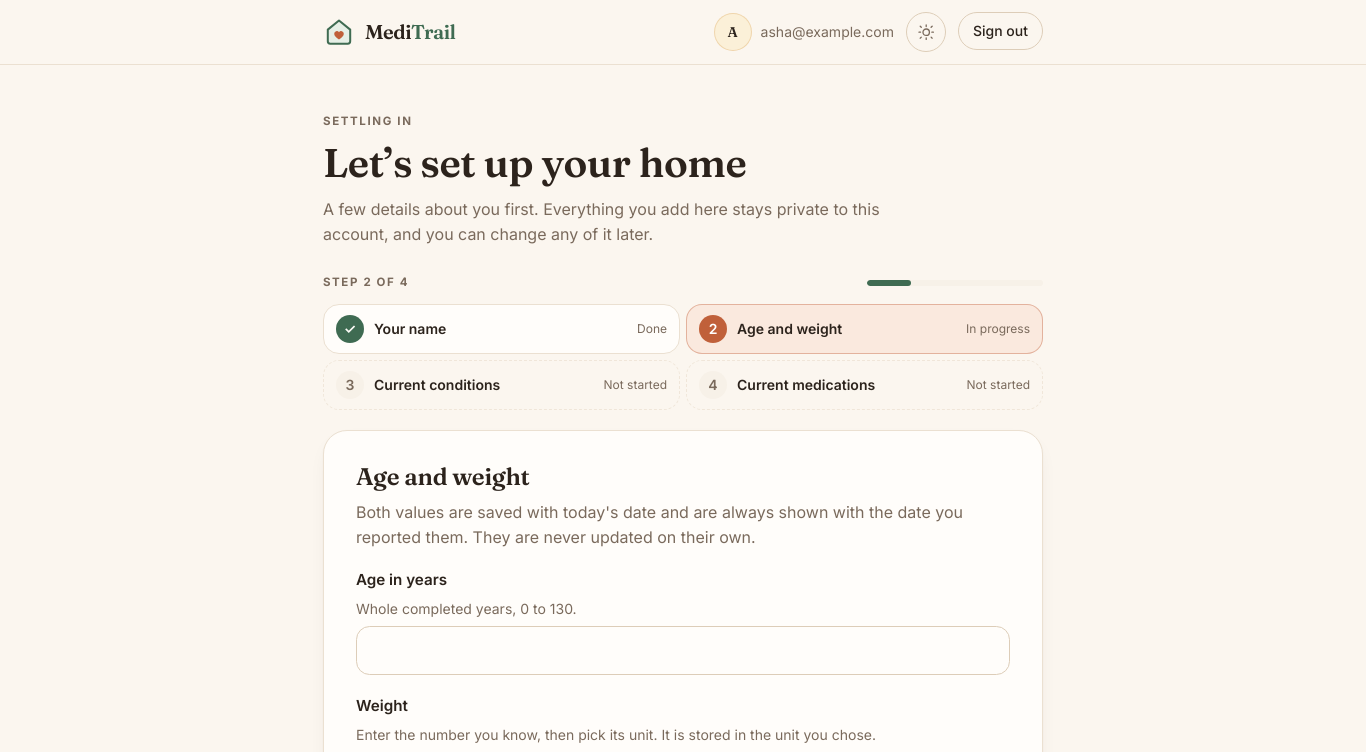
OnboardingWizard › returns to the next required step after correcting an earlier answer
The width and height of the screenshot is (1366, 752).
Expected: the heading "Age and weight" is shown, [356,462,530,491]
Click the button "✓ Your name" at (391, 329), box [336,315,446,343]
(page scrolled)
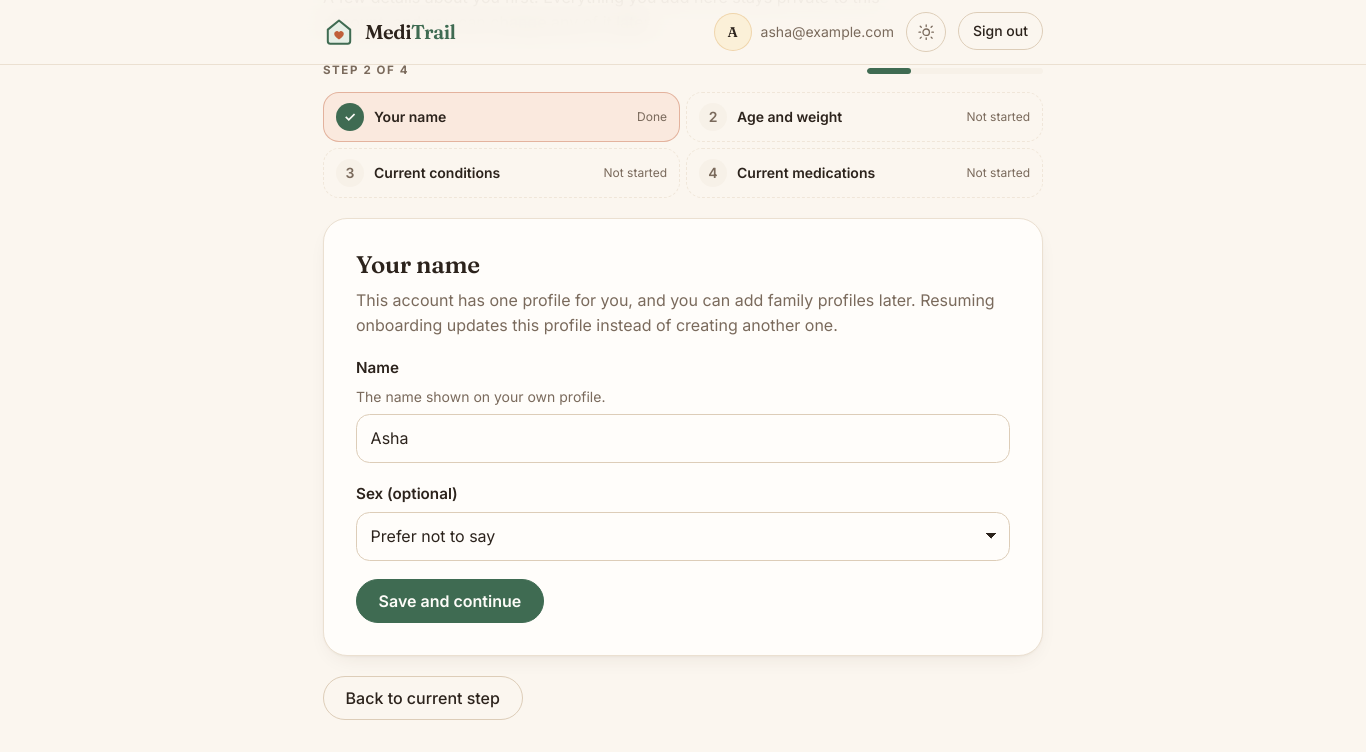
Click the button "Save and continue" at (450, 601), box [356,579,544,623]
(page scrolled)
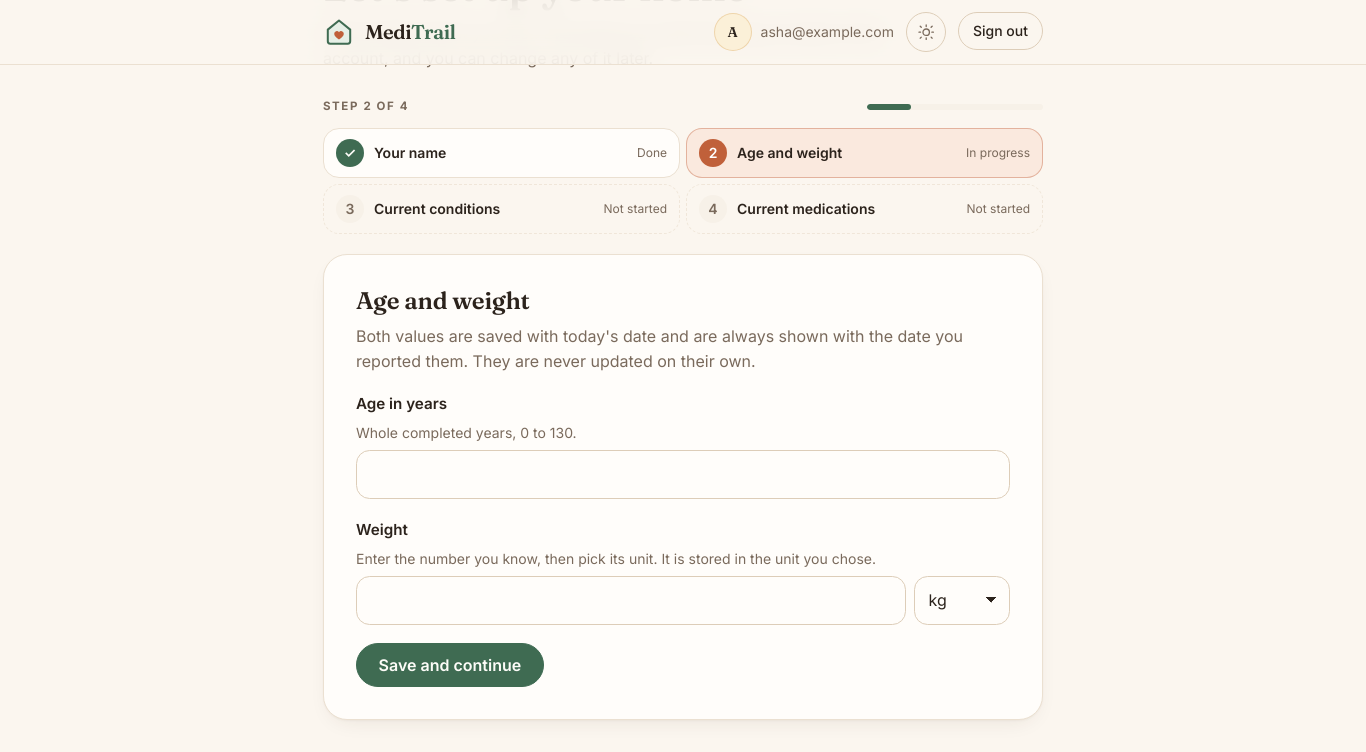
Expected: the heading "Age and weight" is shown, [356,286,530,315]
